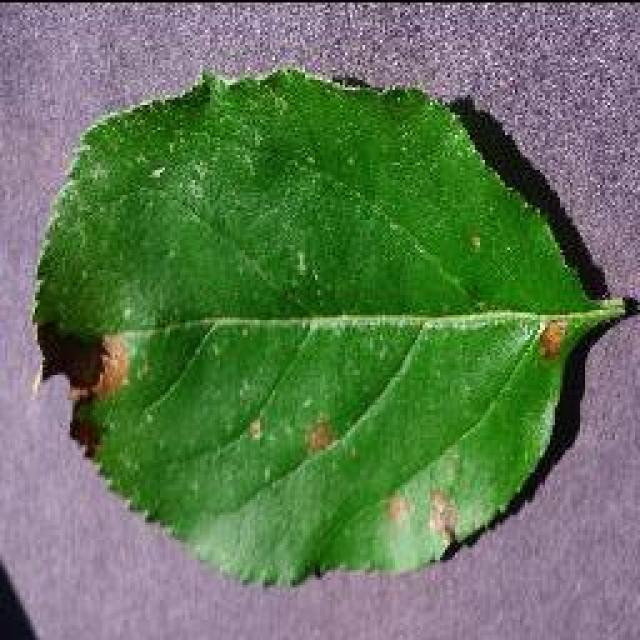Black_rot: (30, 62, 638, 588)
